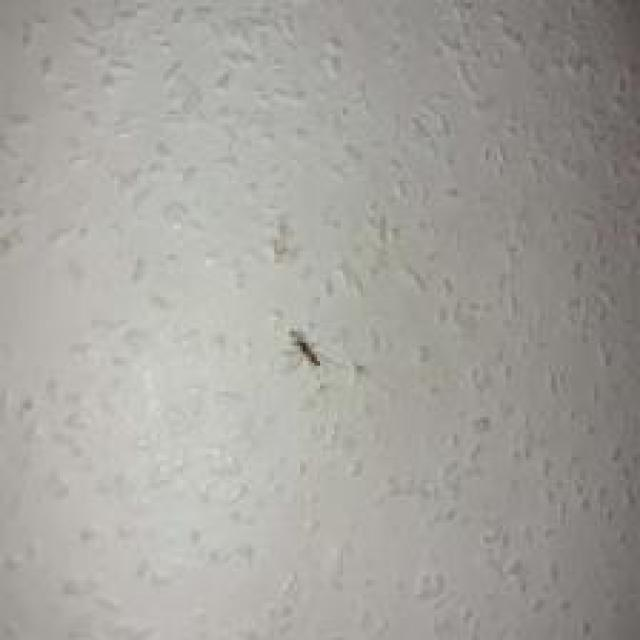Culex: (289, 327, 320, 367)
